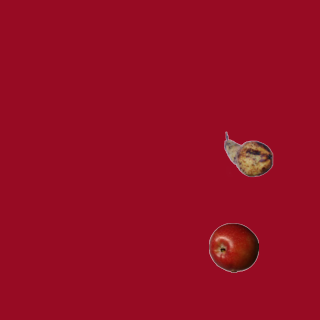Apple Braeburn: (208, 222, 258, 272)
Pear Abate: (223, 129, 273, 179)
